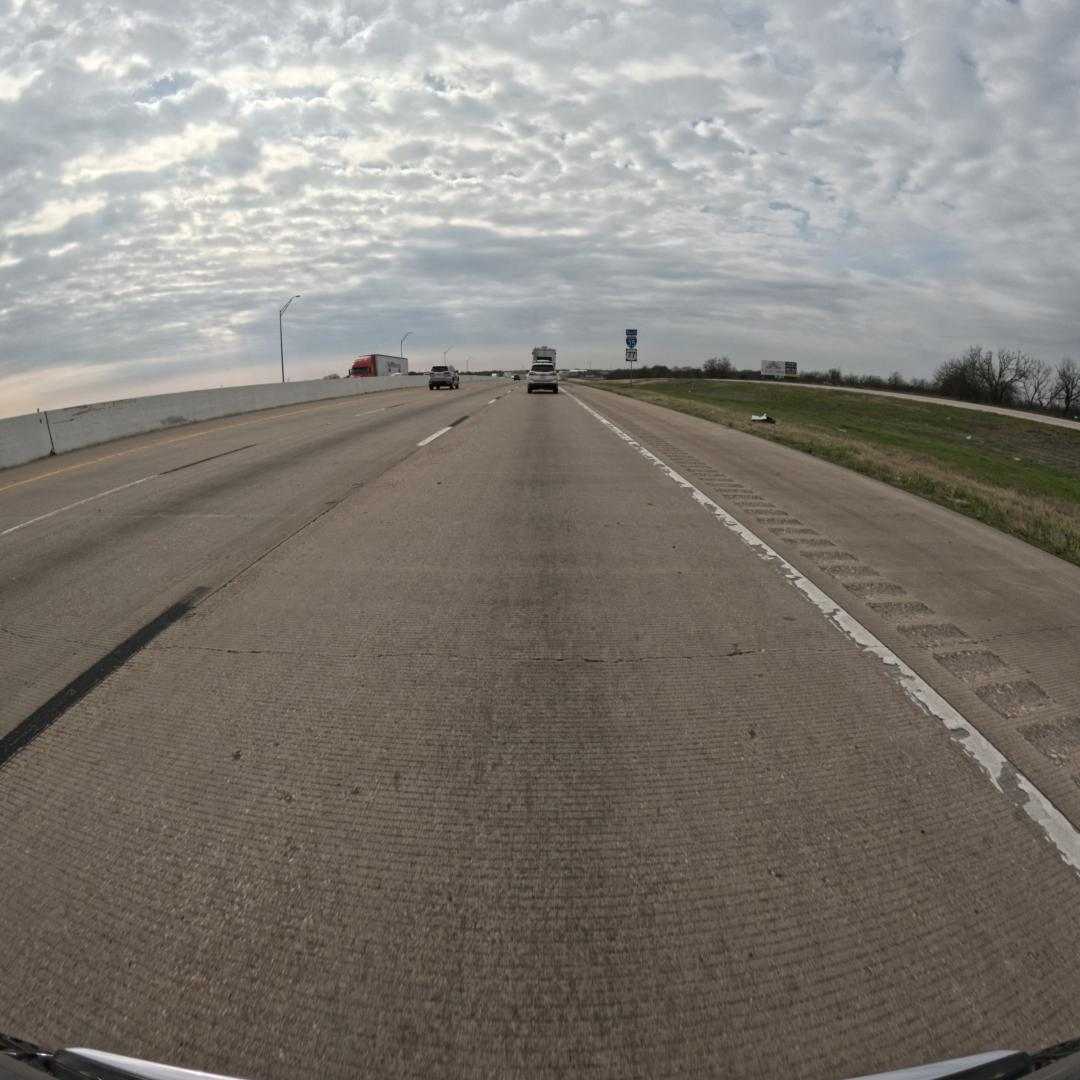lane0: (0, 391, 1080, 1076)
lane1: (0, 387, 503, 765)
